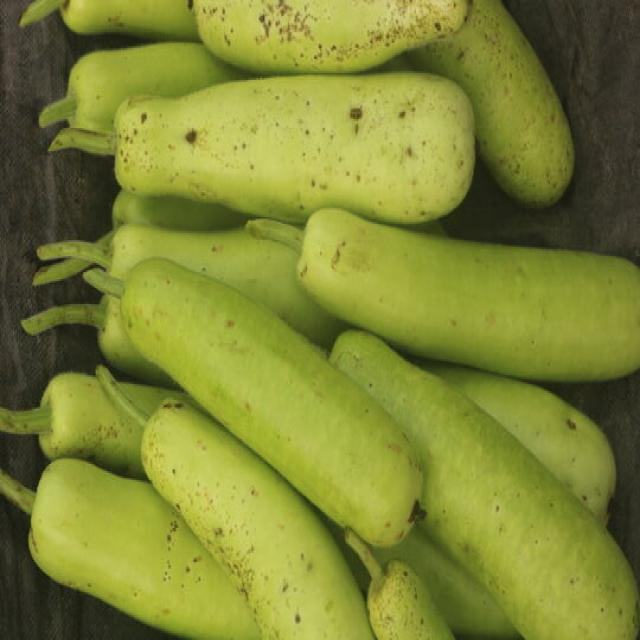Bottle Gourd: (327, 326, 639, 638), (120, 254, 426, 548), (295, 206, 639, 382), (80, 76, 452, 211), (0, 457, 262, 638), (403, 0, 576, 208), (180, 0, 477, 69)
Spinach: (2, 2, 640, 640)
